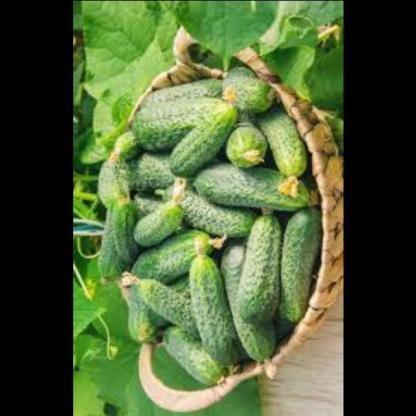cucumber: (98, 68, 317, 363)
